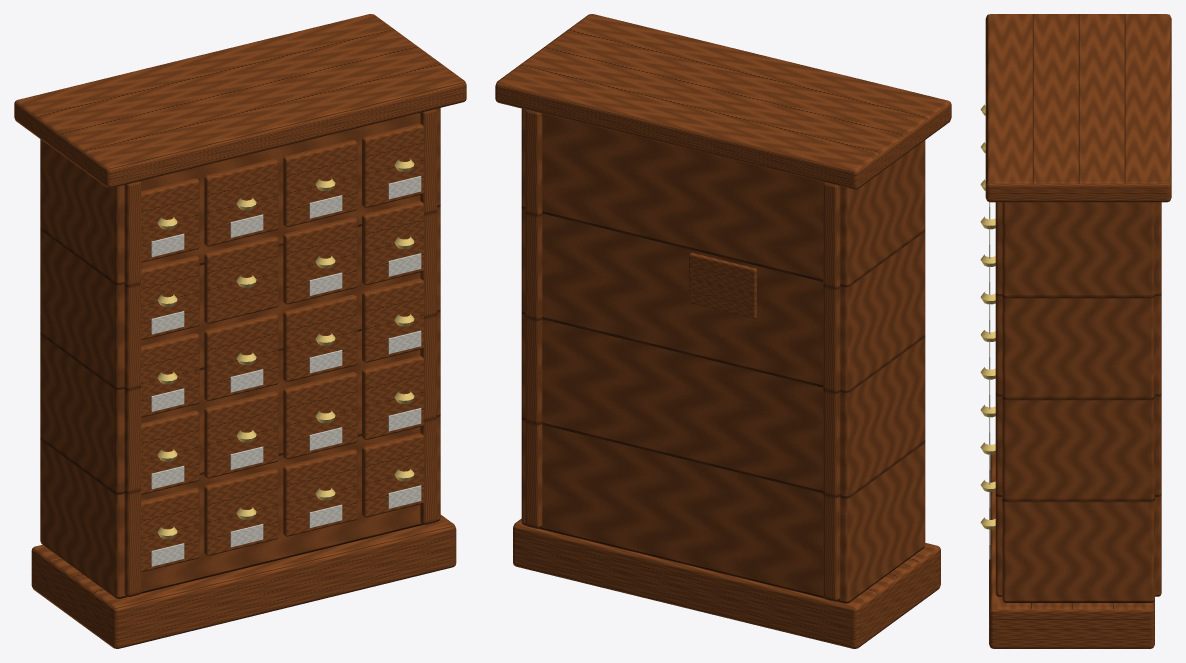
File: witch-cottage-and-apothecary-apothecary-chest-bb68b654__32480.glb
The picture shows the model from 3 angles, left to right: view 1: azimuth 30°, elevation 25°; view 2: azimuth 150°, elevation 25°; view 3: azimuth 270°, elevation 25°; orthographic projection. The views are drawn at different scales.
Visible parts, largest first — view 1: apothecary-chest, drawer-chest/oak; view 2: apothecary-chest, drawer-chest/oak; view 3: apothecary-chest.
Part boxes in pixels (x1=…): apothecary-chest: x1=14, y1=14, x2=466, y2=648; drawer-chest/oak: x1=204, y1=236, x2=278, y2=323; apothecary-chest: x1=495, y1=14, x2=951, y2=648; drawer-chest/oak: x1=689, y1=253, x2=756, y2=318; apothecary-chest: x1=980, y1=14, x2=1171, y2=648.
Bounding box in the file's own units: 1.22 × 1.57 × 0.576.
4 materials, 2 textured.
